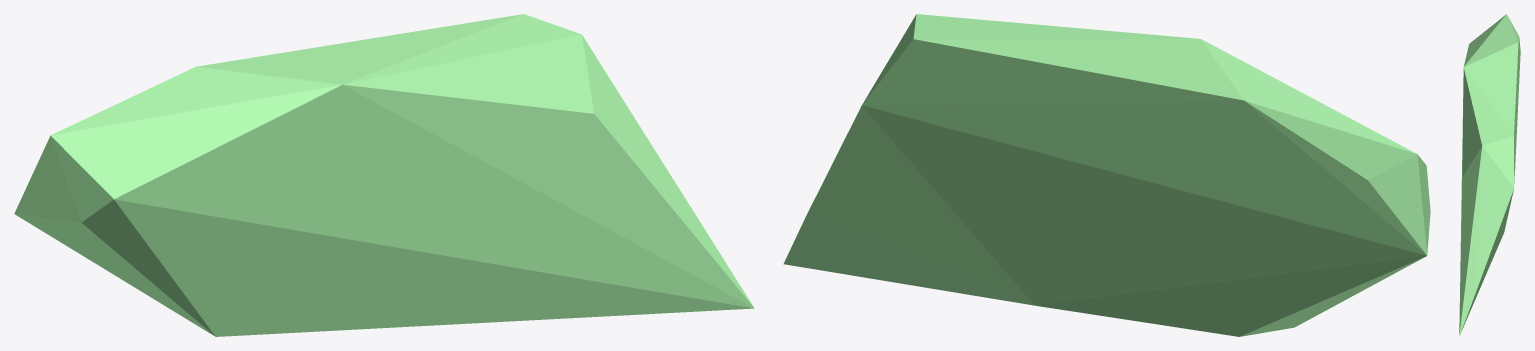
The model's file is linkhou_LR4_R560_link2_respondable_coll_7.dae.
The picture shows the model from 3 angles, left to right: view 1: azimuth 30°, elevation 25°; view 2: azimuth 150°, elevation 25°; view 3: azimuth 270°, elevation 25°; orthographic projection. The views are drawn at different scales.
Parts seen in each view (by area): view 1: Node_00000209DB3AB0A0; view 2: Node_00000209DB3AB0A0; view 3: Node_00000209DB3AB0A0.
Boxes of the visible parts, x1=… form: Node_00000209DB3AB0A0: x1=14, y1=14, x2=754, y2=336; Node_00000209DB3AB0A0: x1=783, y1=14, x2=1430, y2=336; Node_00000209DB3AB0A0: x1=1459, y1=14, x2=1520, y2=335.
Bounding box in the file's own units: 0.1464 × 0.0662 × 0.022.
